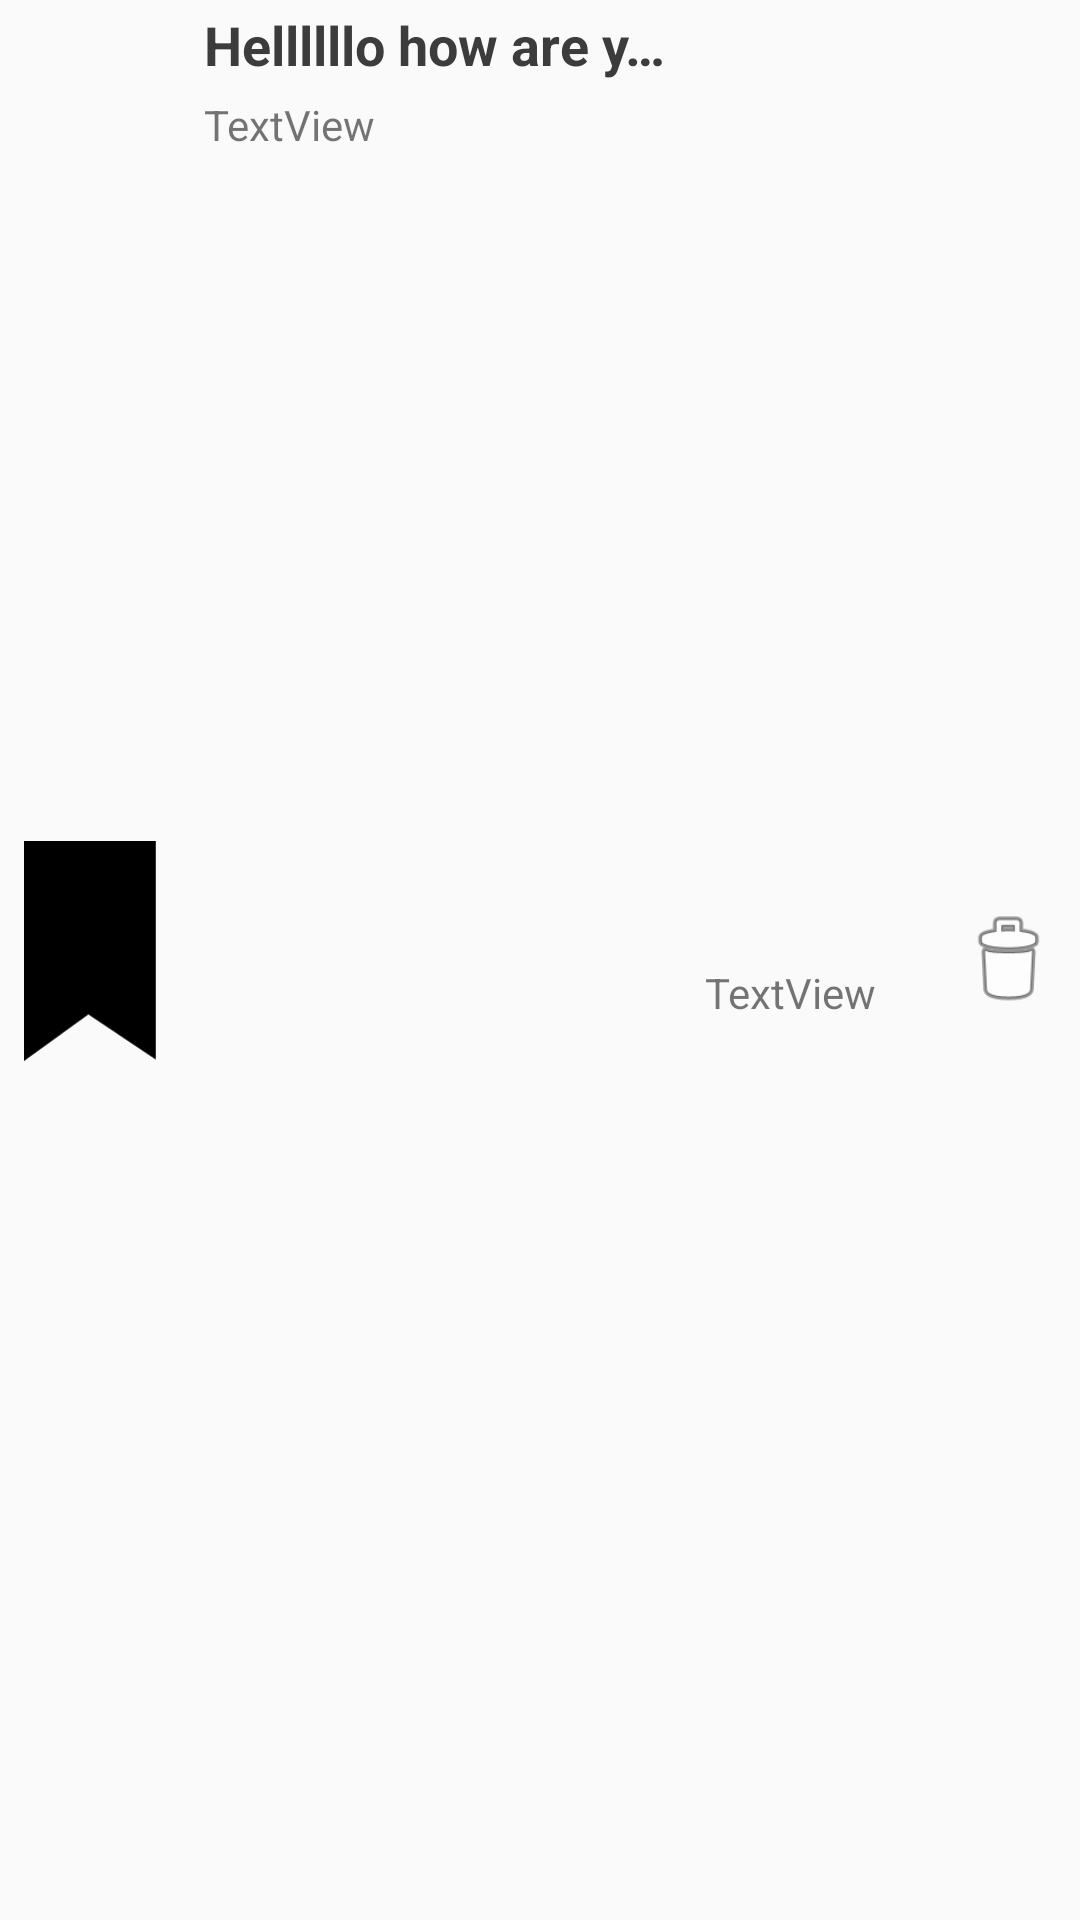

Icon click points for this 1080 x 1920 phone screenshot, format (x=x, y=y):
delete: (x=1008, y=958)
